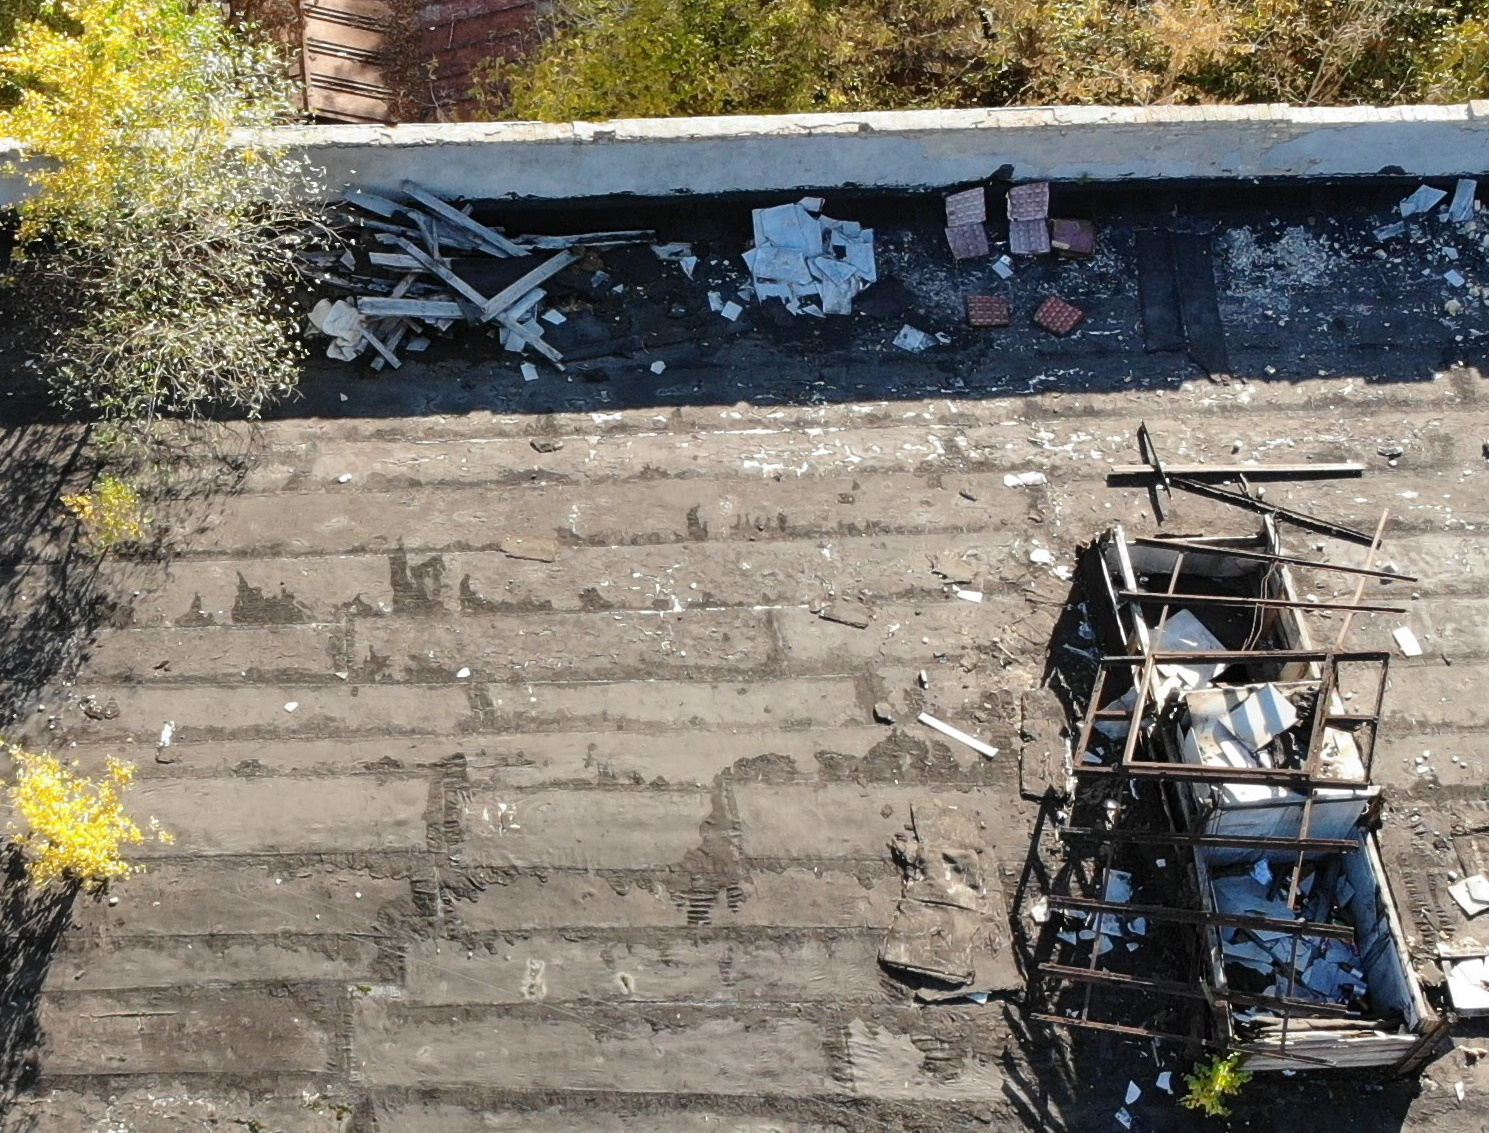tree: (65, 106, 325, 468), (17, 7, 277, 328), (14, 730, 165, 929), (61, 467, 165, 589), (1162, 1028, 1259, 1119)
